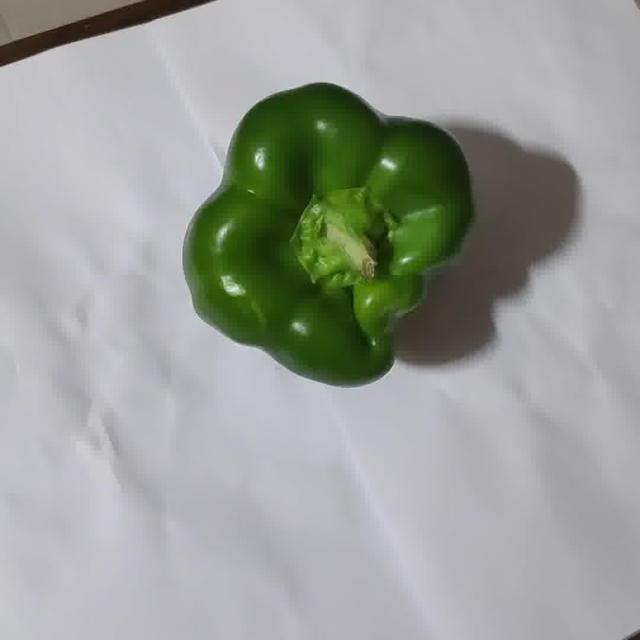Bell Pepper: (183, 83, 473, 385)
